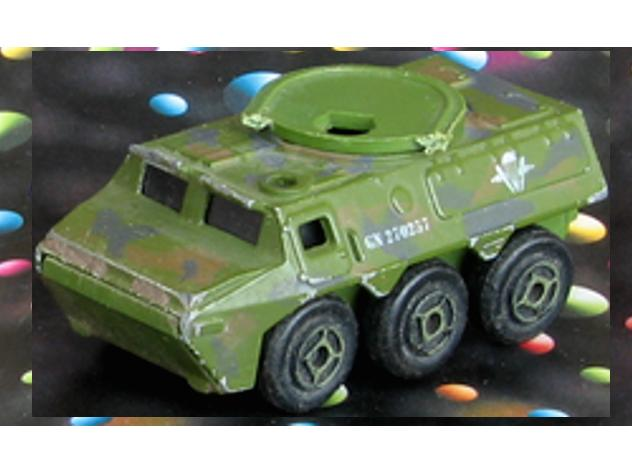toy-car: (31, 52, 609, 418)
